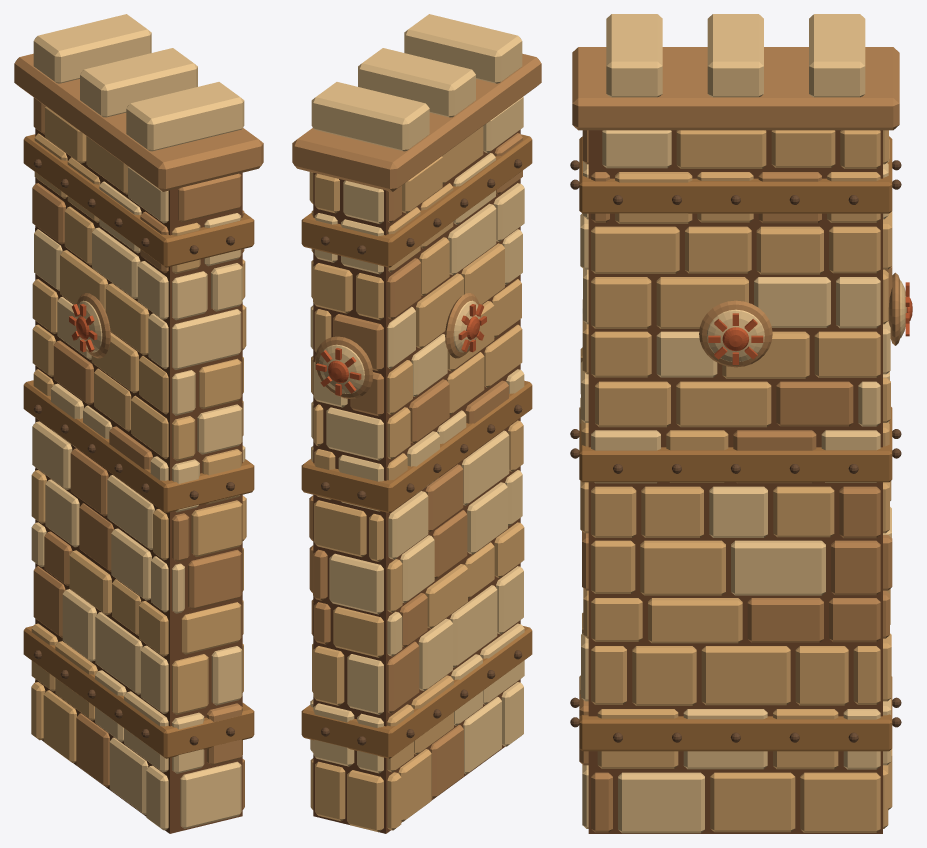
File: BossGate_SunDunes.fbx
The picture shows the model from 3 angles, left to right: view 1: azimuth 30°, elevation 25°; view 2: azimuth 150°, elevation 25°; view 3: azimuth 270°, elevation 25°; orthographic projection. The views are drawn at different scales.
Visible parts, largest first — view 1: BossGate_SunDunes; view 2: BossGate_SunDunes; view 3: BossGate_SunDunes.
Part boxes in pixels (box(x1,y1,x2,y2)): BossGate_SunDunes: box(14, 14, 263, 833); BossGate_SunDunes: box(292, 14, 541, 833); BossGate_SunDunes: box(570, 14, 912, 833).
Bounding box in the file's own units: 148 × 838 × 335.
